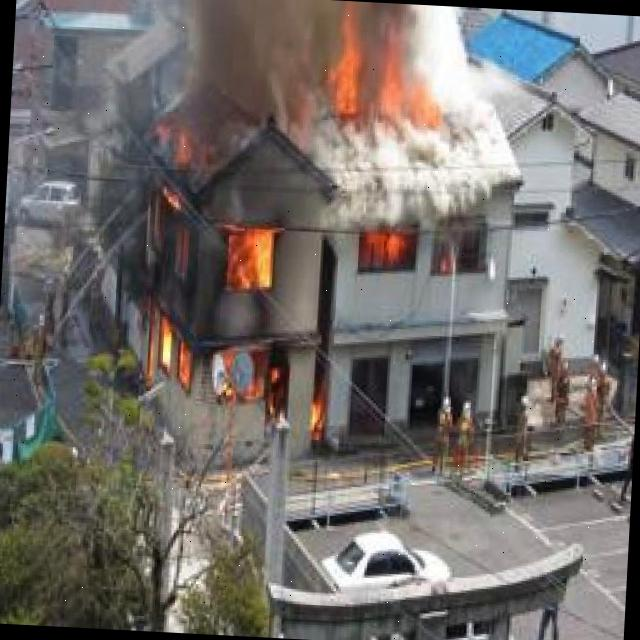fire: (119, 114, 348, 458), (321, 11, 457, 132), (360, 226, 460, 281)
